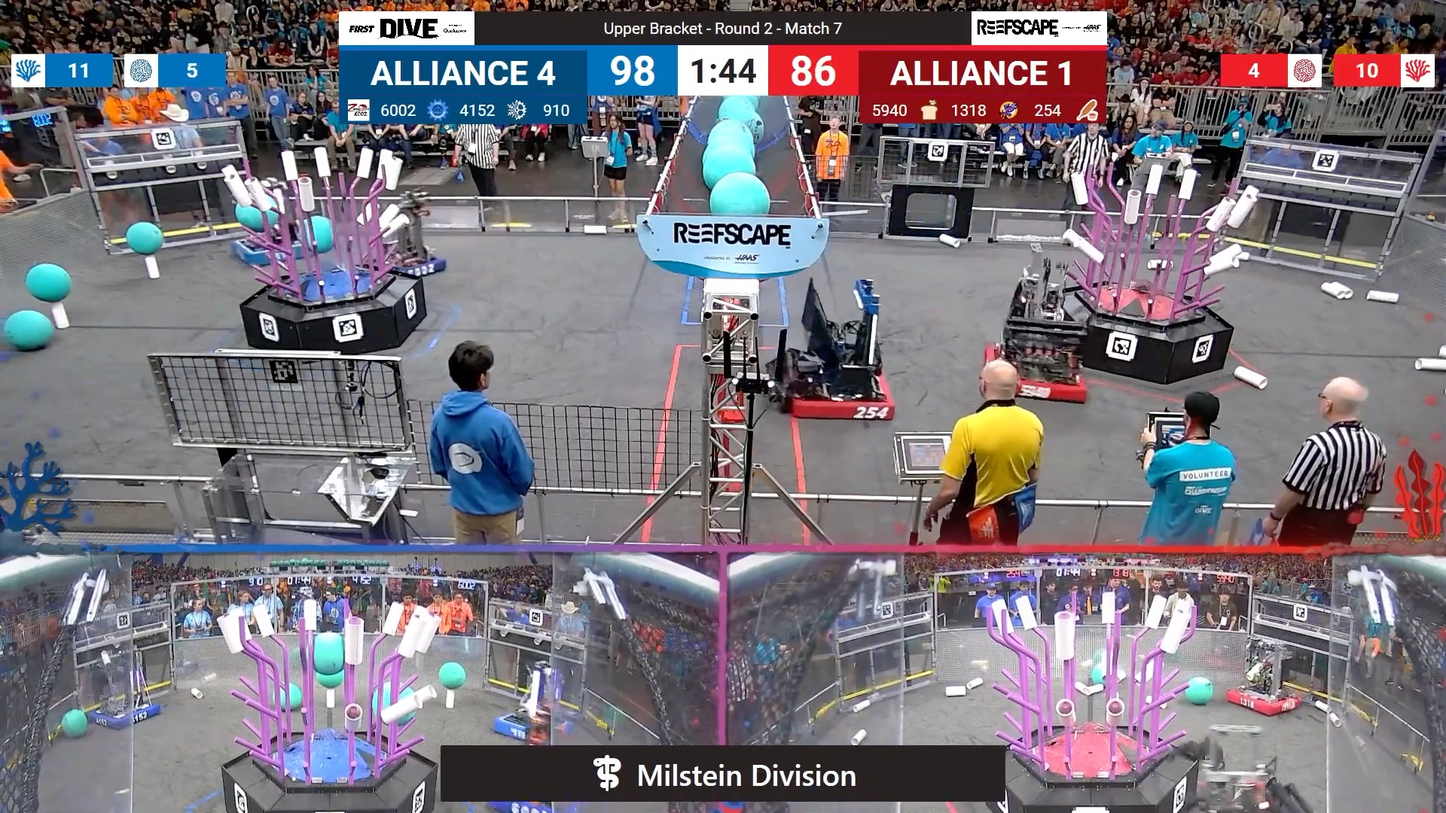bumpers: (771, 362, 902, 430), (986, 349, 1099, 411), (1215, 683, 1304, 721), (487, 707, 573, 746), (82, 698, 169, 735), (224, 239, 320, 270), (376, 250, 456, 281)
